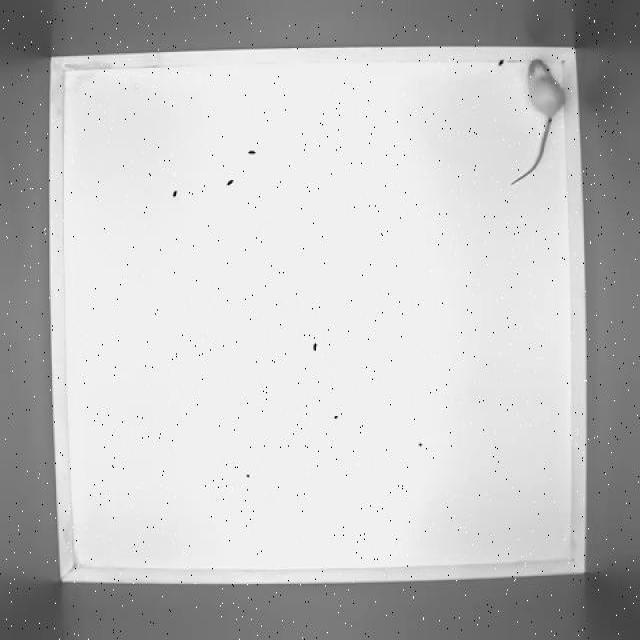rat: (510, 53, 580, 187)
